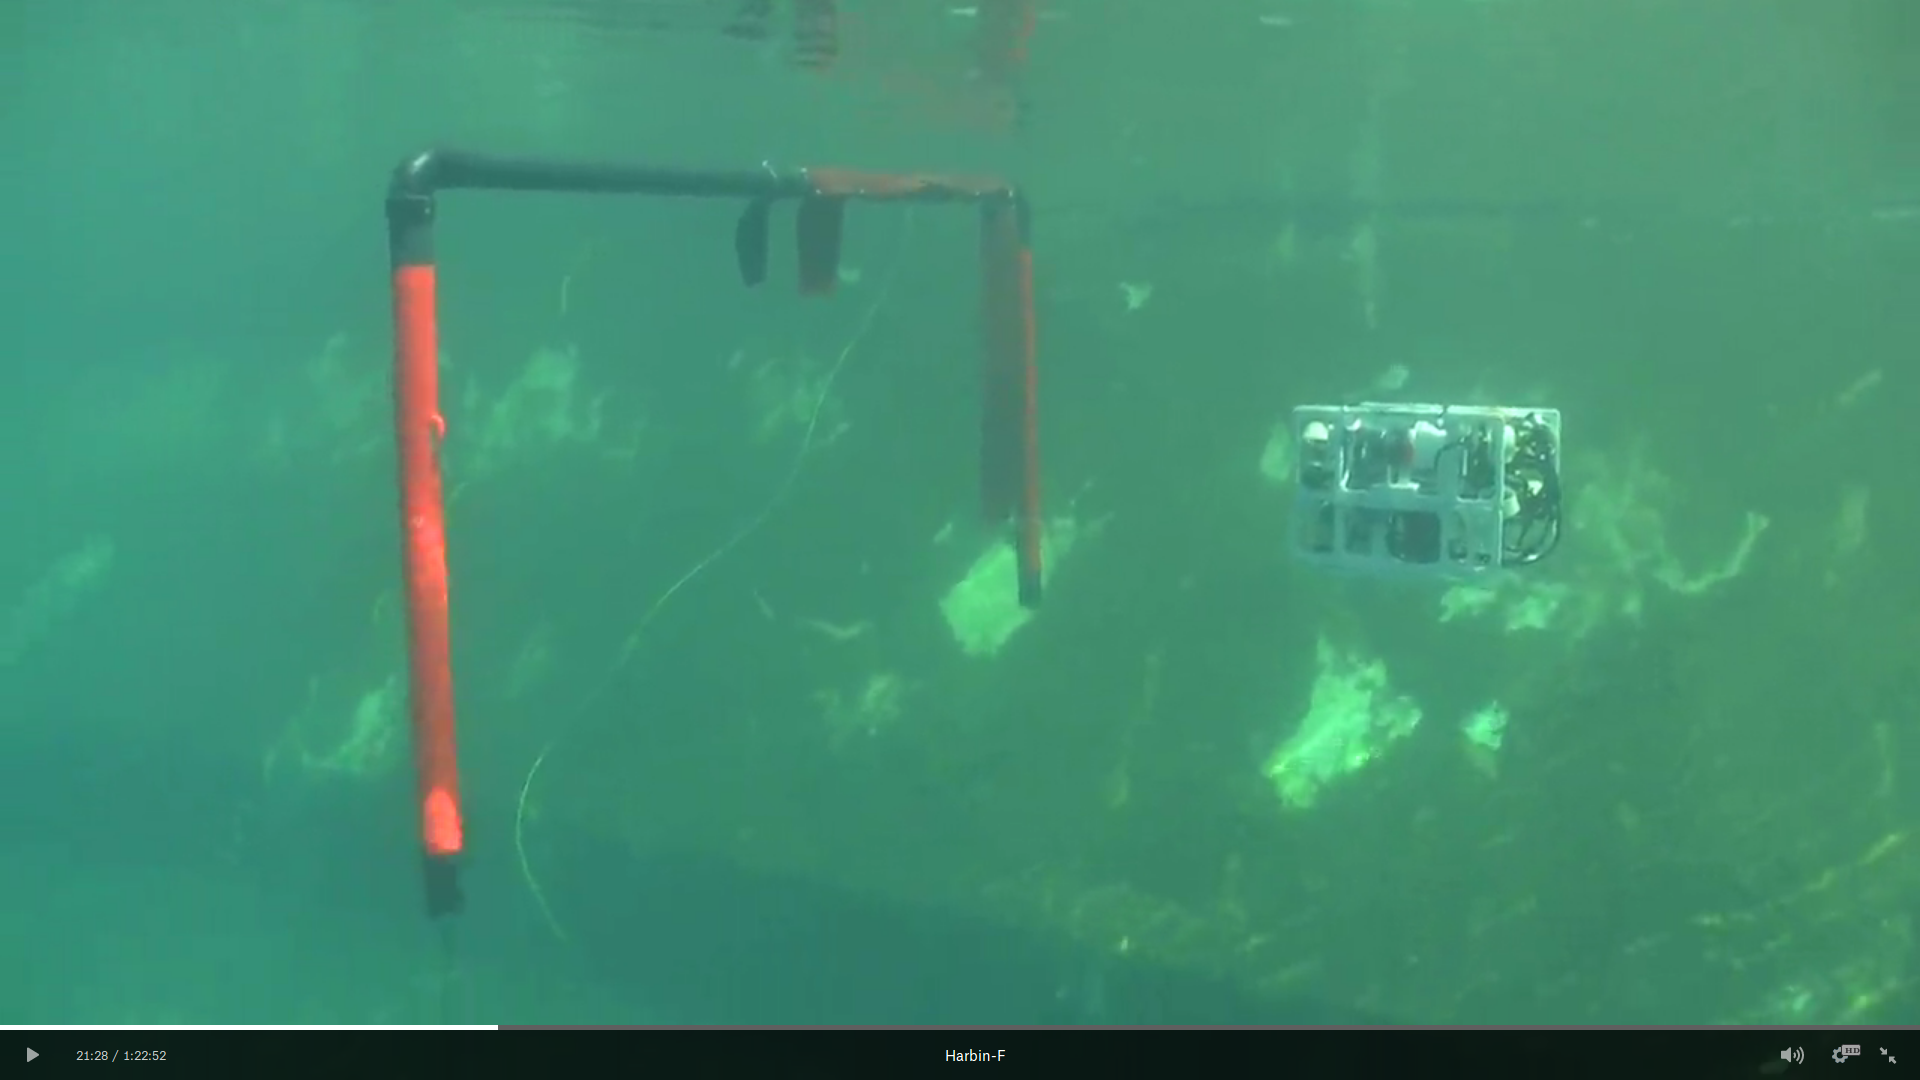gate: (377, 137, 1066, 893)
